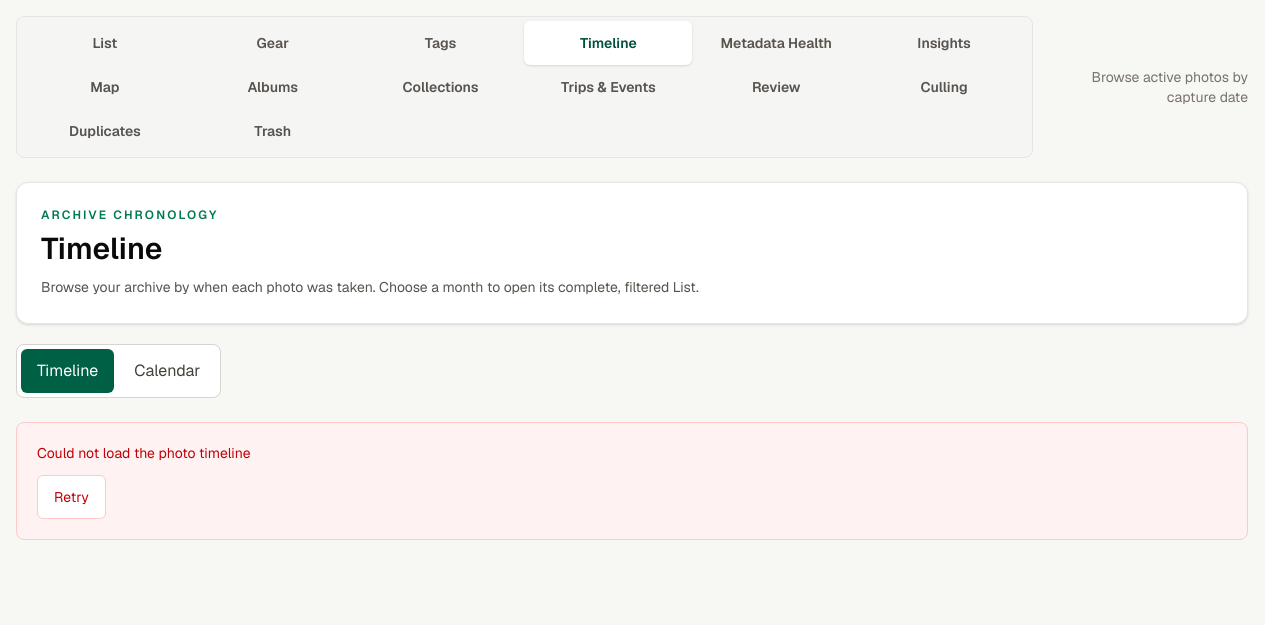
Test case: shows a safe error and retries
The image size is (1265, 625).
Check: the text "Could not load the photo timeline" is shown, box [37,444,251,462]
Click the button "Retry": (71,497) [37,475,106,519]
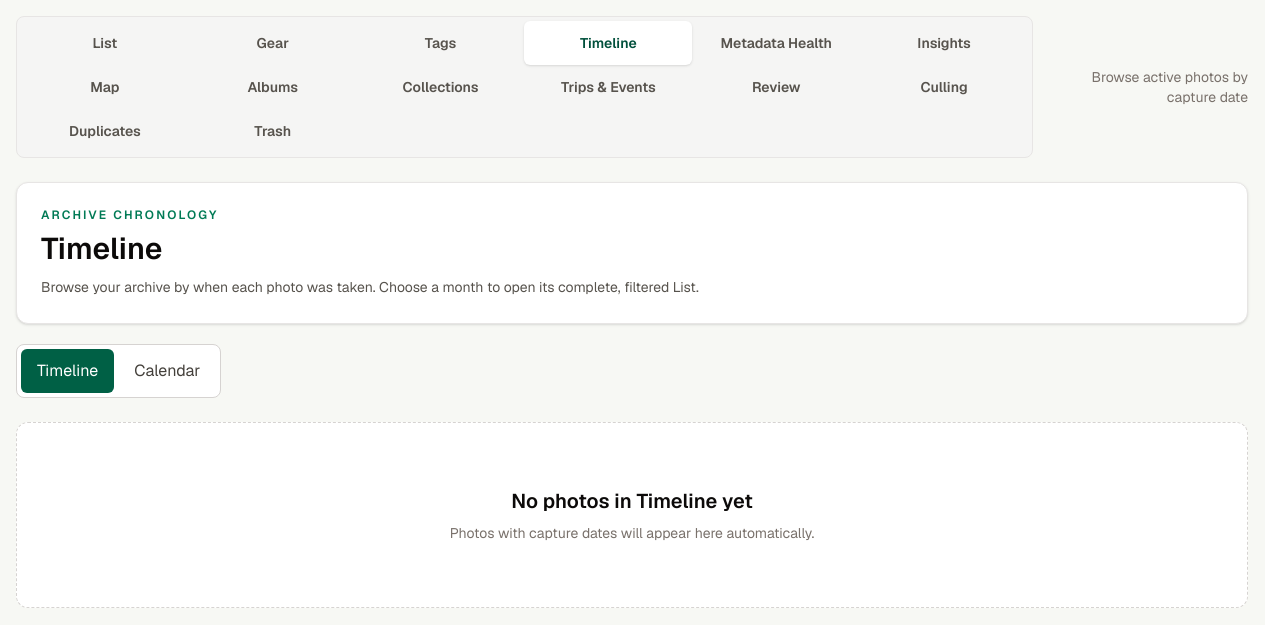
Check: the heading "No photos in Timeline yet" is shown, box [511,488,753,514]
